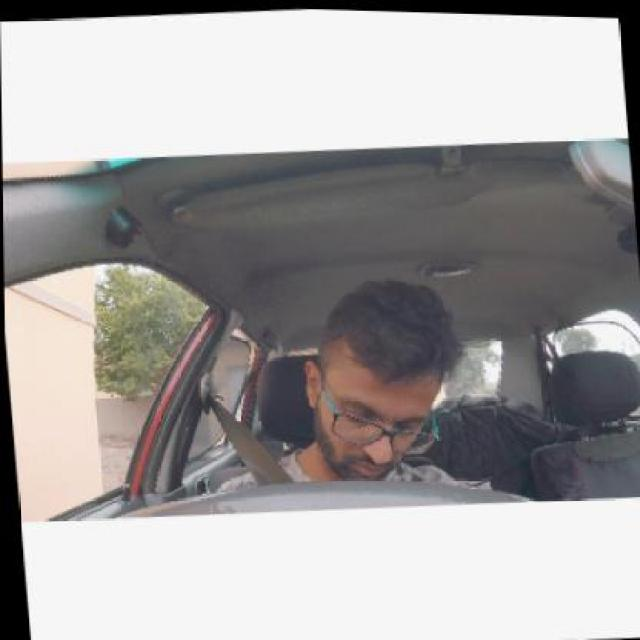drowsy: (294, 267, 461, 492)
